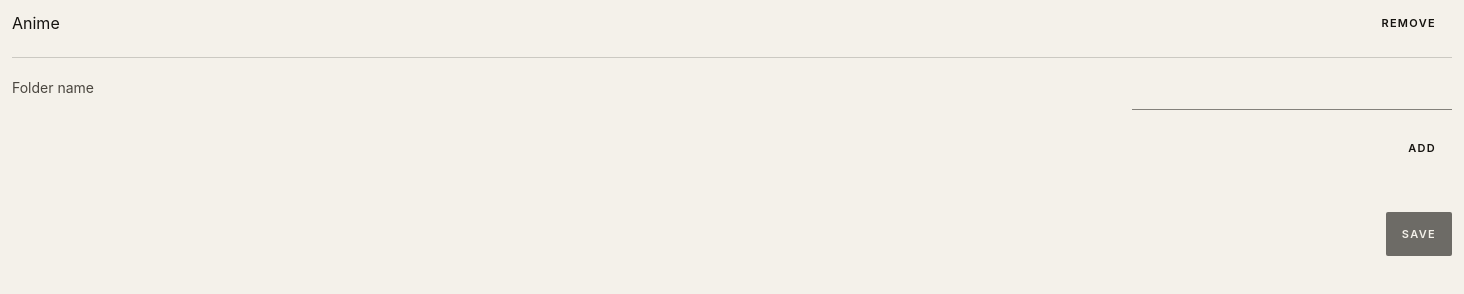
Test: AnimeFolders › shows each problem under the field and keeps the name for fixing
Type "anime" into the field labelled "Folder name" at (1292, 88), box [1132,66,1452,110]
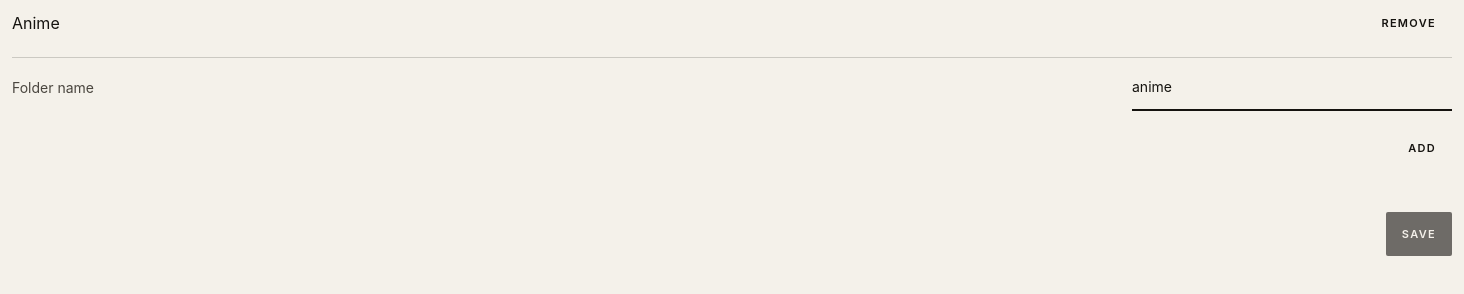
Click the button "Add" at (1422, 148), box [1392,126,1452,170]
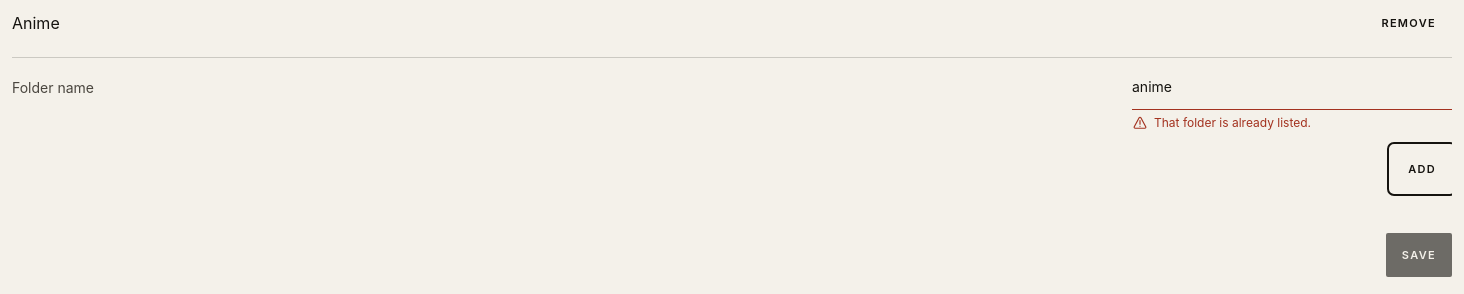
Type "s" into the field labelled "Folder name" at (1292, 88), box [1132,66,1452,110]
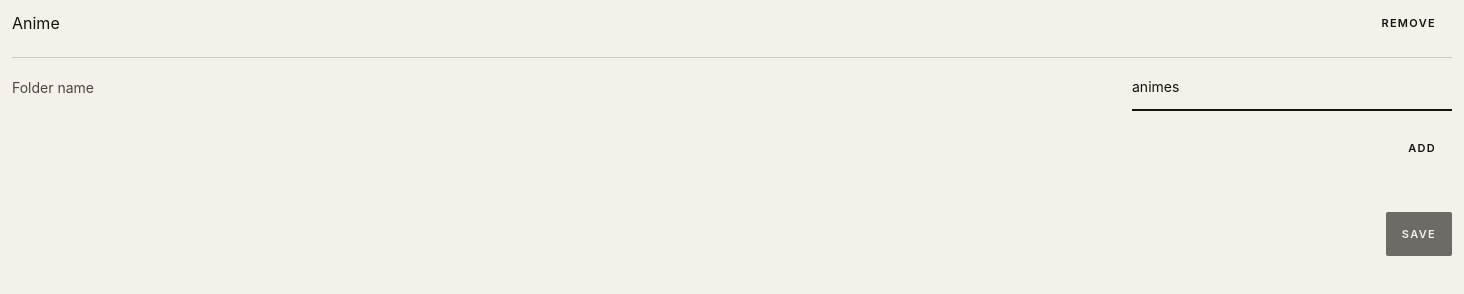
Now the text "That folder is already listed." is gone
